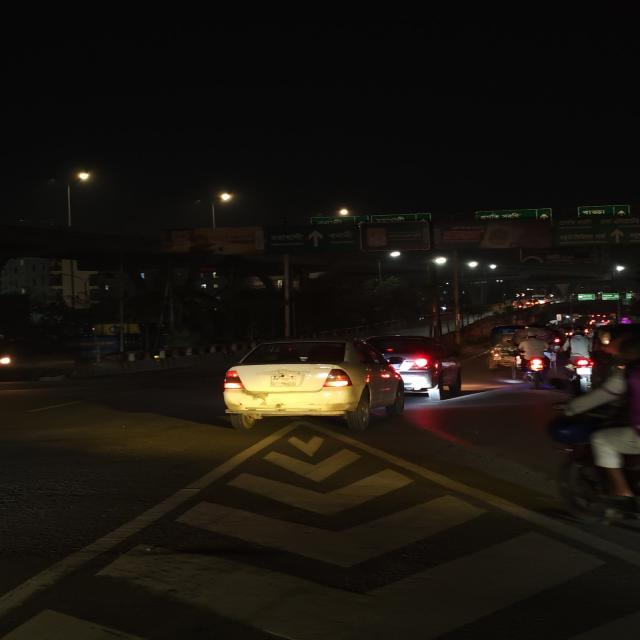car: (218, 338, 408, 430), (368, 332, 466, 394)
cng: (483, 324, 530, 372)
motorcycle: (562, 328, 617, 393), (516, 333, 556, 381)
